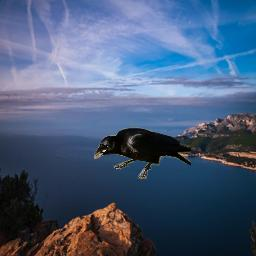Crow: (93, 127, 191, 179)
